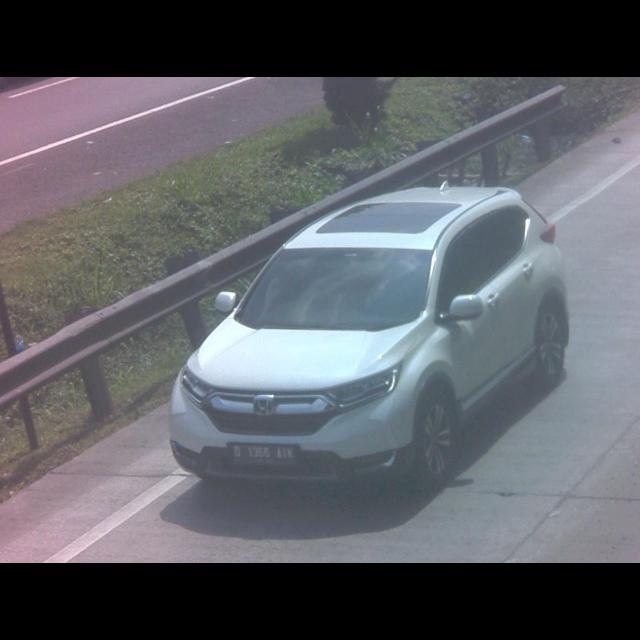plate: (230, 440, 298, 468)
